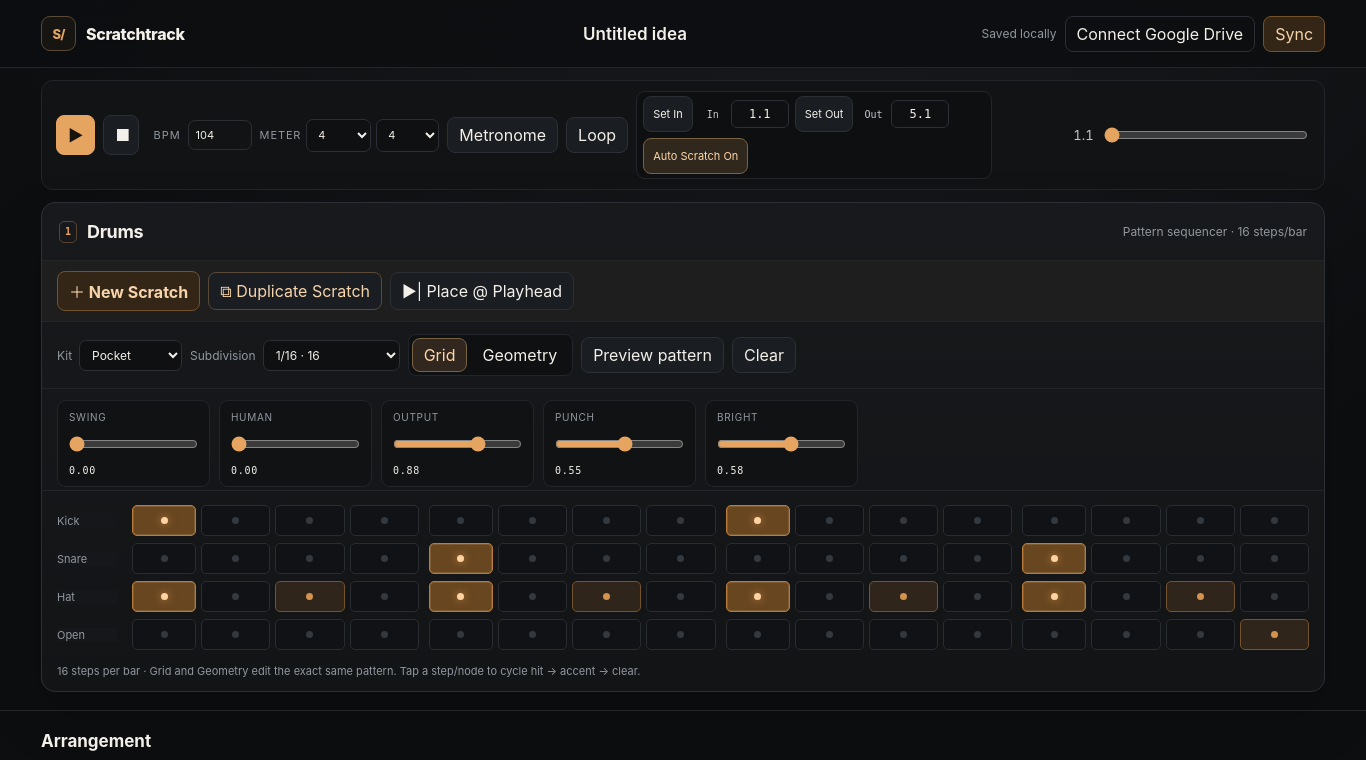
app shell › New Scratch keeps sound settings but starts with a clean pattern
This screenshot has width=1366, height=760.
Click the button "＋ New Scratch": (129, 291) [57, 271, 200, 311]
(page scrolled)
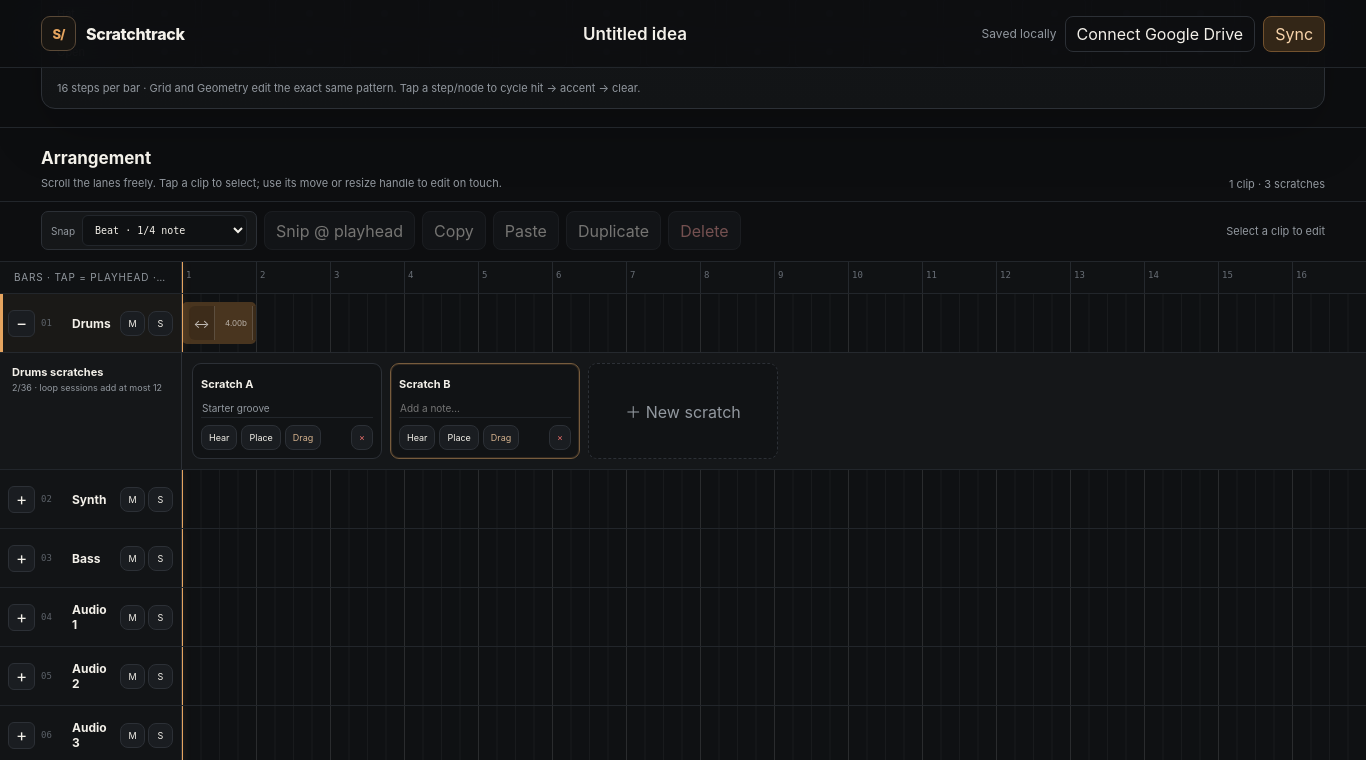
Expected: the button "Scratch B" is shown, [399, 373, 450, 395]
